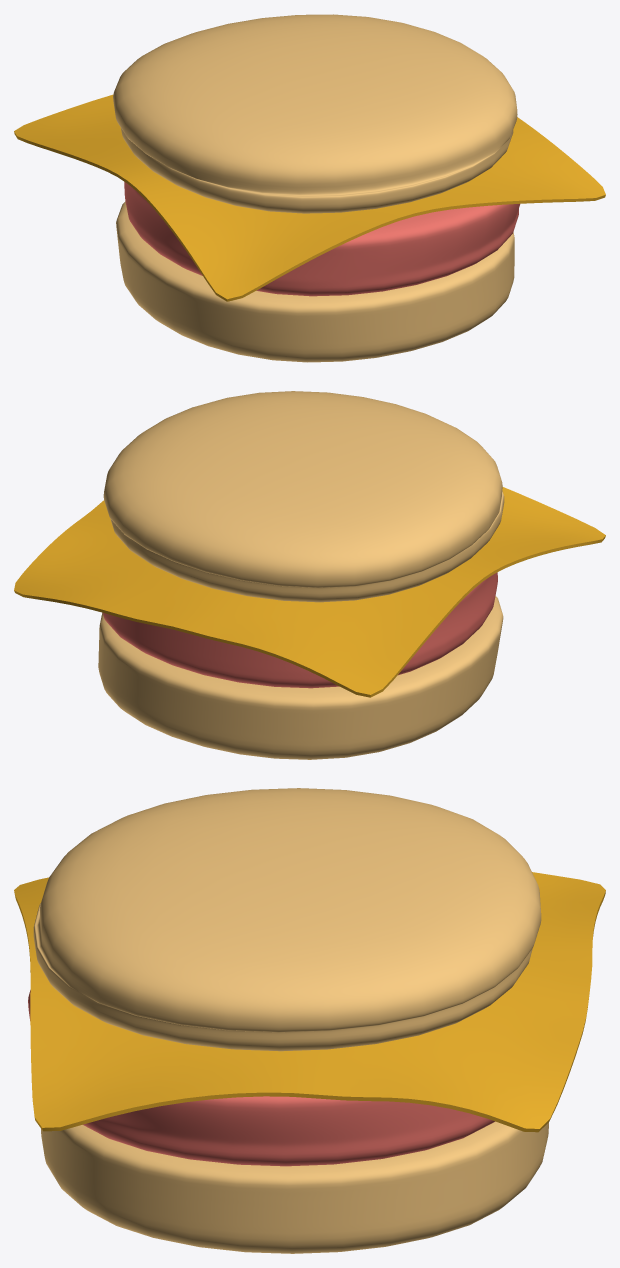
The model's file is bun.glb.
The picture shows the model from 3 angles, top to bottom: view 1: azimuth 30°, elevation 25°; view 2: azimuth 150°, elevation 25°; view 3: azimuth 270°, elevation 25°; orthographic projection. The views are drawn at different scales.
Visible parts, largest first — view 1: Cube.002, Plane, Cube, Cube.001; view 2: Cube.002, Plane, Cube, Cube.001; view 3: Cube.002, Plane, Cube, Cube.001.
Boxes of the visible parts, <box> form: Cube.002: <box>113,14,517,213</box>; Plane: <box>14,94,605,301</box>; Cube: <box>116,201,514,362</box>; Cube.001: <box>124,182,520,296</box>; Cube.002: <box>103,391,504,602</box>; Plane: <box>14,487,605,697</box>; Cube: <box>98,596,503,759</box>; Cube.001: <box>102,572,497,688</box>; Cube.002: <box>33,788,541,1051</box>; Plane: <box>14,872,605,1132</box>; Cube: <box>41,1121,548,1253</box>; Cube.001: <box>28,990,494,1166</box>.
Size of the model in its own units: 10.85 by 6.13 by 10.74.
